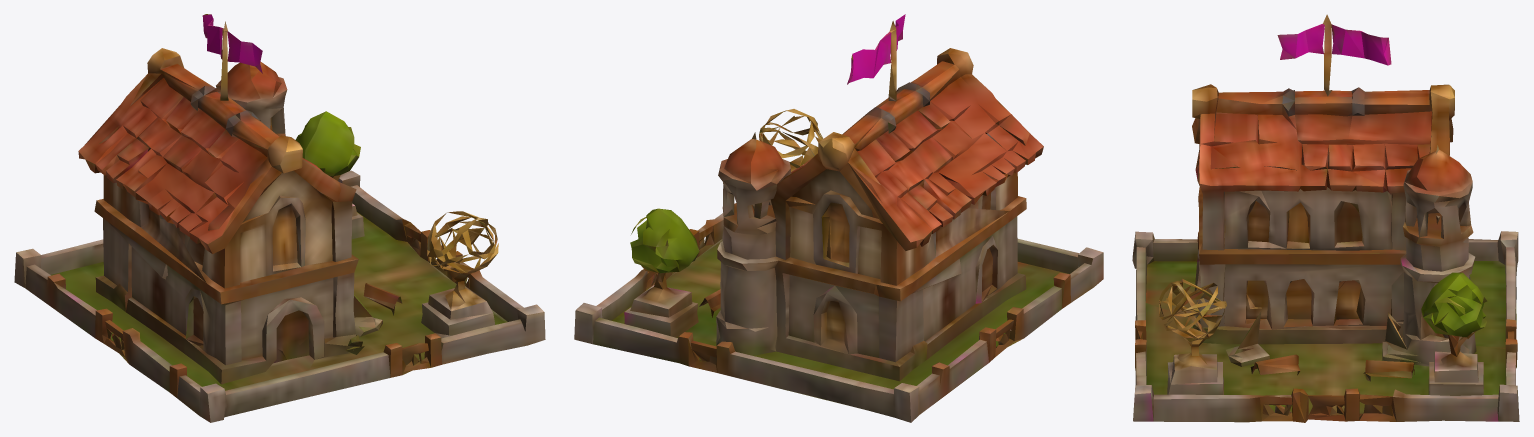
File: university.lod2.glb
3 views of the same model, side by side, from view 1: azimuth 30°, elevation 25°; view 2: azimuth 150°, elevation 25°; view 3: azimuth 270°, elevation 25° (orthographic).
Visible parts, largest first — view 1: university.lod2_uv; view 2: university.lod2_uv; view 3: university.lod2_uv.
Part boxes in pixels (x1,y1,x2,y2): university.lod2_uv: (14,14,545,422); university.lod2_uv: (574,14,1103,422); university.lod2_uv: (1132,14,1519,422).
Bounding box in the file's own units: 1.9 × 1.64 × 1.9.
1 material, 1 textured.
